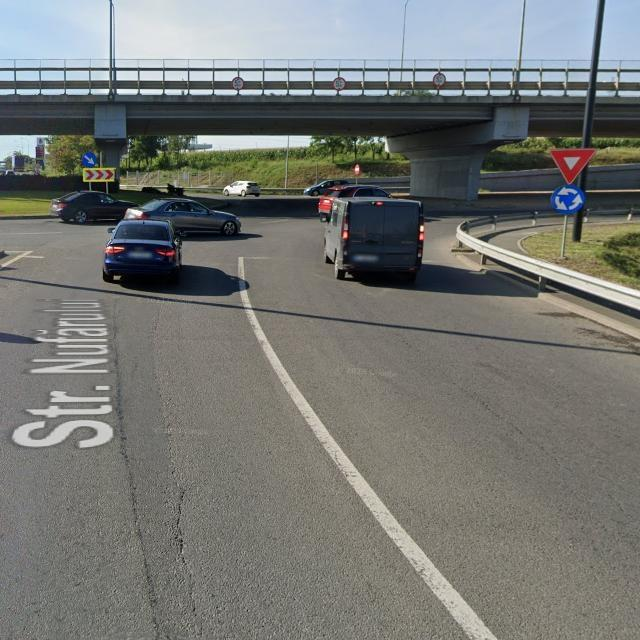prio_give_way: (551, 149, 597, 185)
